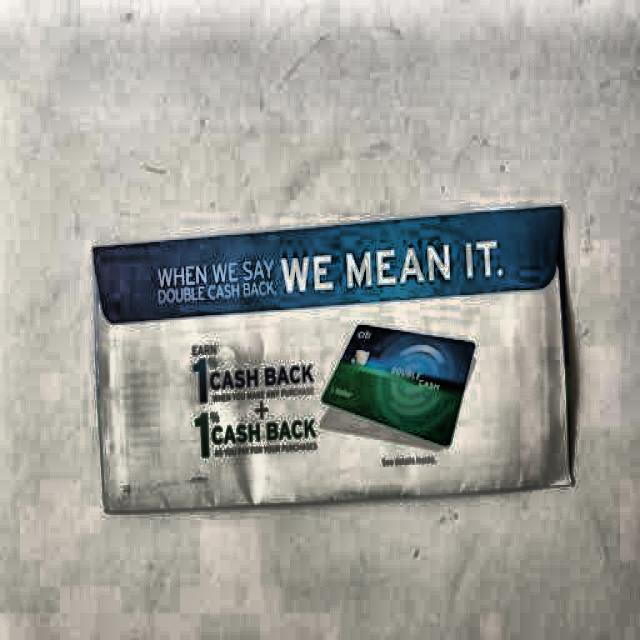paper: (90, 208, 577, 521)
